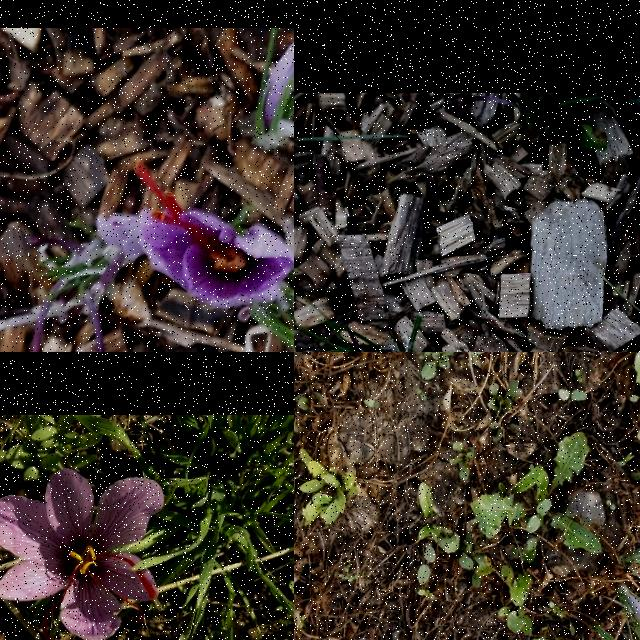flower: (0, 469, 165, 640), (135, 159, 294, 307), (261, 37, 294, 124)
